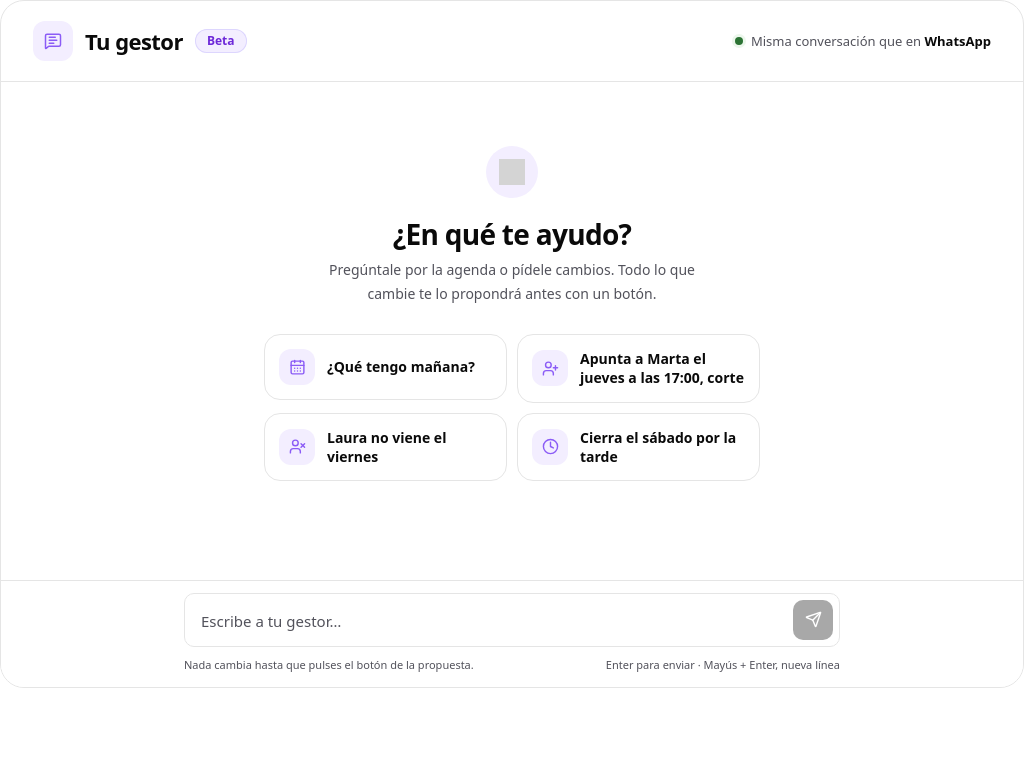
GestorChat › un error del backend se enseña sin perder lo escrito en el hilo
Type "hola" into the text box named "Mensaje para tu gestor" at coordinates (493, 621), box [201,603,785,640]
Then press Enter
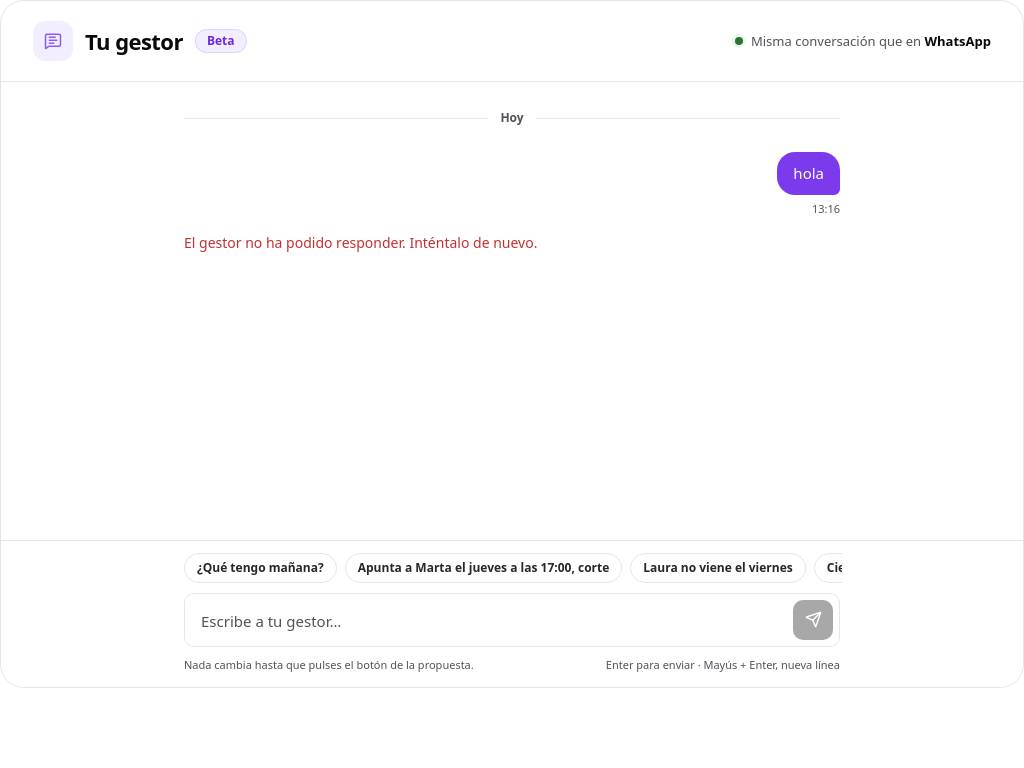
Check: the message shows "no ha podido responder", box [184,233,537,252]
Check: the text "hola" is shown, box [777,152,840,194]
